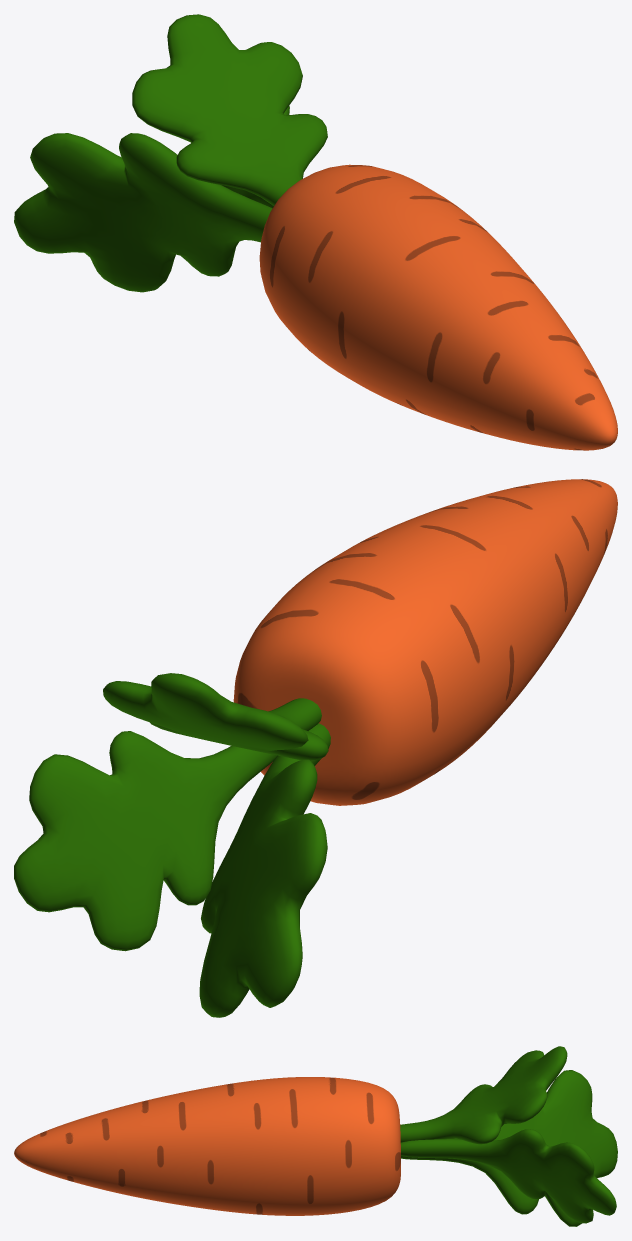
The model's file is carrot.obj.
3 views of the same model, one above another, from view 1: azimuth 30°, elevation 25°; view 2: azimuth 150°, elevation 25°; view 3: azimuth 270°, elevation 25° (orthographic). The views are drawn at different scales.
Parts seen in each view (by area): view 1: Box001; view 2: Box001; view 3: Box001.
Boxes of the visible parts, x1=… form: Box001: x1=14, y1=14, x2=617, y2=450; Box001: x1=14, y1=479, x2=617, y2=1017; Box001: x1=14, y1=1046, x2=617, y2=1226.
Bounding box in the file's own units: 11.48 × 11.98 × 34.67.
